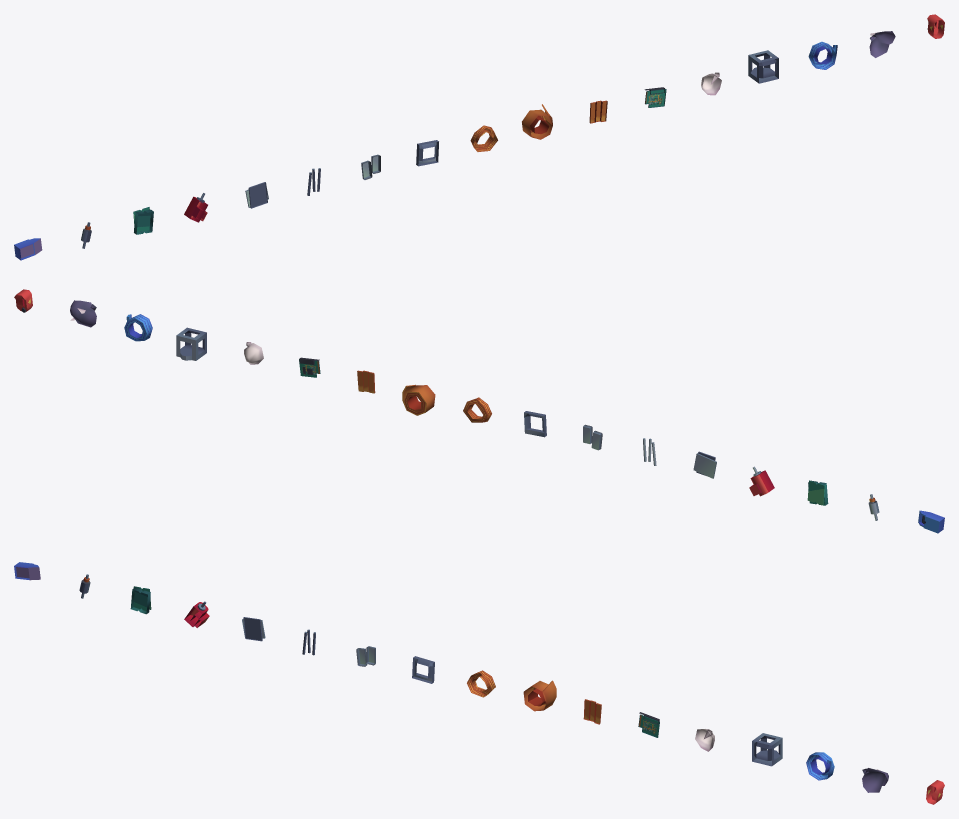
Rendered from Items.fbx.
3 views of the same model, one above another, from view 1: azimuth 30°, elevation 25°; view 2: azimuth 150°, elevation 25°; view 3: azimuth 330°, elevation 25° (orthographic).
Parts seen in each view (by area): view 1: Chassis, CopperSheet, Cable; view 2: Chassis, CopperSheet, BugPulp, Cable; view 3: Chassis, CopperSheet, Cable, BugPulp.
Boxes of the visible parts, box(x1,y1,x2,y2) form: Chassis: box(748, 50, 778, 83); CopperSheet: box(522, 104, 552, 139); Cable: box(808, 41, 837, 69); Chassis: box(176, 327, 206, 360); CopperSheet: box(402, 384, 435, 415); BugPulp: box(70, 300, 96, 327); Cable: box(124, 314, 152, 341); Chassis: box(752, 733, 782, 766); CopperSheet: box(523, 680, 556, 711); Cable: box(806, 752, 834, 780); BugPulp: box(862, 768, 888, 792).
Size of the model in its own units: 16.32 by 0.4604 by 0.3983.
